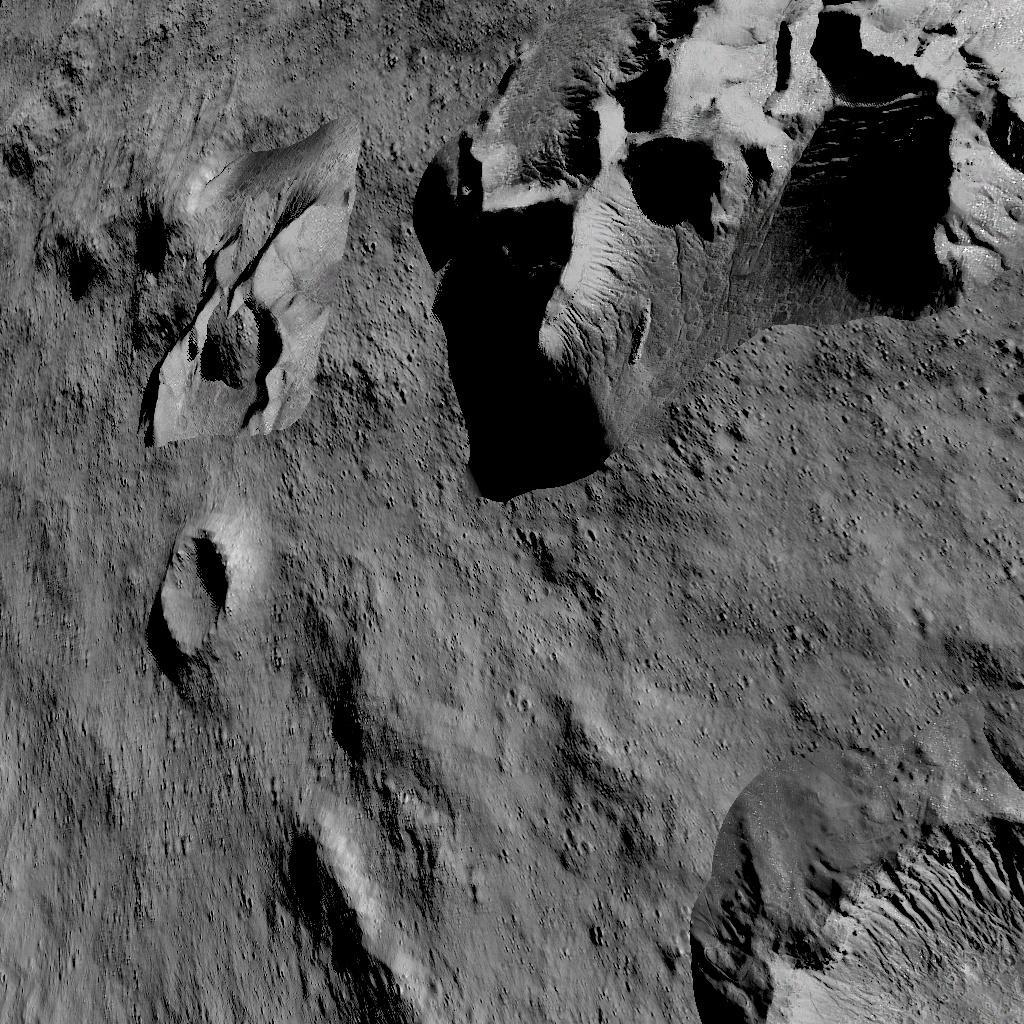Boulders: (412, 0, 1024, 503), (105, 108, 365, 448)
Crater: (696, 762, 1024, 1024), (148, 510, 244, 660)
Plan surface: (427, 516, 1024, 752), (0, 668, 272, 1024), (419, 762, 687, 1024), (0, 0, 399, 96), (1, 456, 135, 658)
